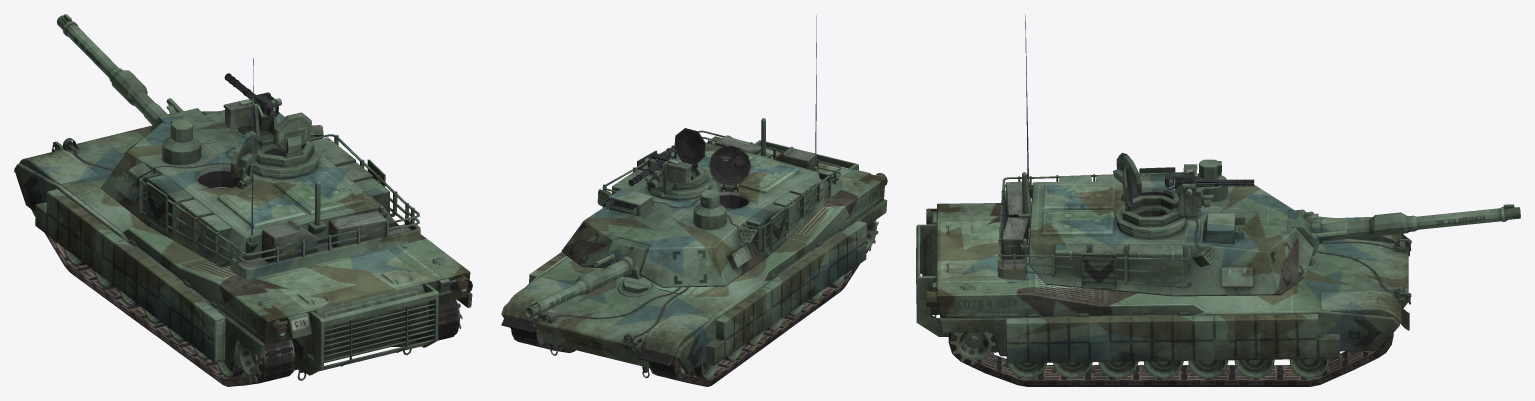
File: General Dynamics M1A2 'TUSK'.obj
The picture shows the model from 3 angles, left to right: view 1: azimuth 30°, elevation 25°; view 2: azimuth 150°, elevation 25°; view 3: azimuth 270°, elevation 25°; orthographic projection. The views are drawn at different scales.
Parts seen in each view (by area): view 1: DrawCall_2248, DrawCall_2257, DrawCall_2519, DrawCall_2256, DrawCall_2258, DrawCall_2259, DrawCall_2253, DrawCall_2518, DrawCall_2249, DrawCall_2255, DrawCall_2254, DrawCall_2274 (+1 smaller); view 2: DrawCall_2248, DrawCall_2257, DrawCall_2519, DrawCall_2258, DrawCall_2256, DrawCall_2253, DrawCall_2255, DrawCall_2259, DrawCall_2518, DrawCall_2260, DrawCall_2268; view 3: DrawCall_2248, DrawCall_2257, DrawCall_2518, DrawCall_2258, DrawCall_2256, DrawCall_2251, DrawCall_2255, DrawCall_2253, DrawCall_2261, DrawCall_2262, DrawCall_2263, DrawCall_2264 (+2 smaller).
Boxes of the visible parts, x1,y1,x2,y2 form: DrawCall_2248: (14,110,472,380); DrawCall_2257: (100,111,420,279); DrawCall_2519: (31,209,295,386); DrawCall_2256: (223,97,320,176); DrawCall_2258: (57,14,166,124); DrawCall_2259: (273,112,311,158); DrawCall_2253: (230,130,261,184); DrawCall_2518: (392,299,459,346); DrawCall_2249: (235,341,261,382); DrawCall_2255: (150,98,204,131); DrawCall_2254: (170,118,193,142); DrawCall_2274: (216,340,243,378); DrawCall_2248: (501,135,887,378); DrawCall_2257: (561,118,842,287); DrawCall_2519: (649,220,876,386); DrawCall_2258: (525,260,629,317); DrawCall_2256: (646,158,712,198); DrawCall_2253: (708,145,750,189); DrawCall_2255: (594,238,650,279); DrawCall_2259: (674,128,705,169); DrawCall_2518: (511,327,575,352); DrawCall_2260: (644,158,664,190); DrawCall_2268: (684,361,718,379); DrawCall_2248: (916,203,1411,363); DrawCall_2257: (997,167,1313,296); DrawCall_2518: (948,332,1393,386); DrawCall_2258: (1321,204,1520,241); DrawCall_2256: (1114,164,1200,235); DrawCall_2251: (950,332,995,364); DrawCall_2255: (1288,209,1347,255); DrawCall_2253: (1113,152,1141,198); DrawCall_2261: (1289,359,1329,378); DrawCall_2262: (1234,359,1274,378); DrawCall_2263: (1188,360,1228,378); DrawCall_2264: (1144,361,1183,378).
Bounding box in the file's own units: 4.12 × 5.42 × 9.96.
